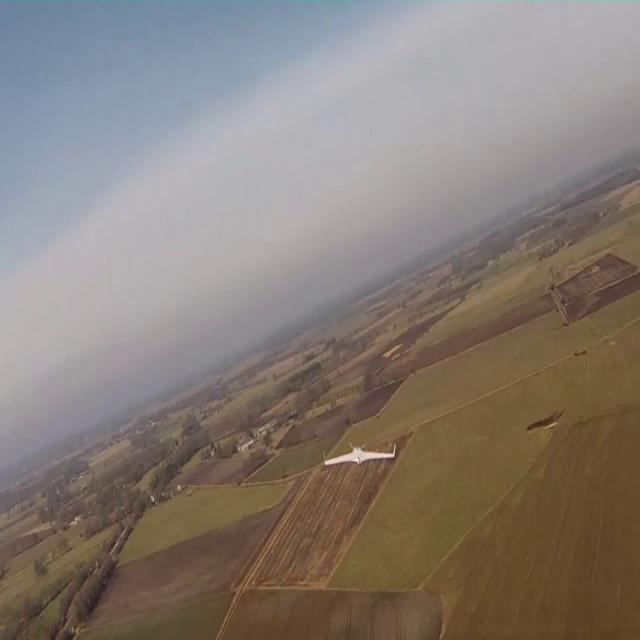iha: (357, 441, 361, 466)
